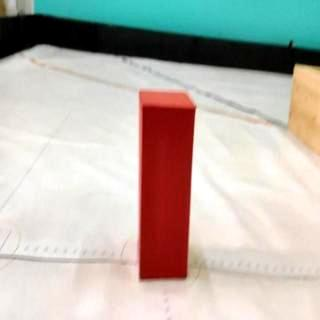redbox: (137, 88, 194, 282)
